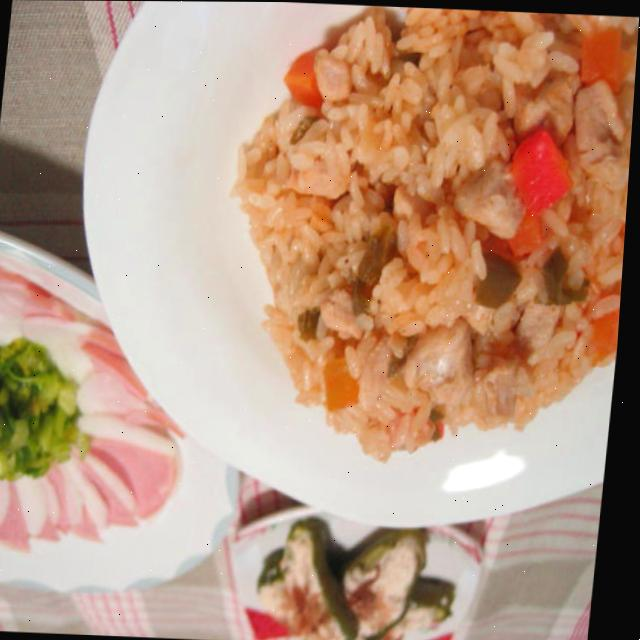米饭主食: (206, 1, 640, 478)
